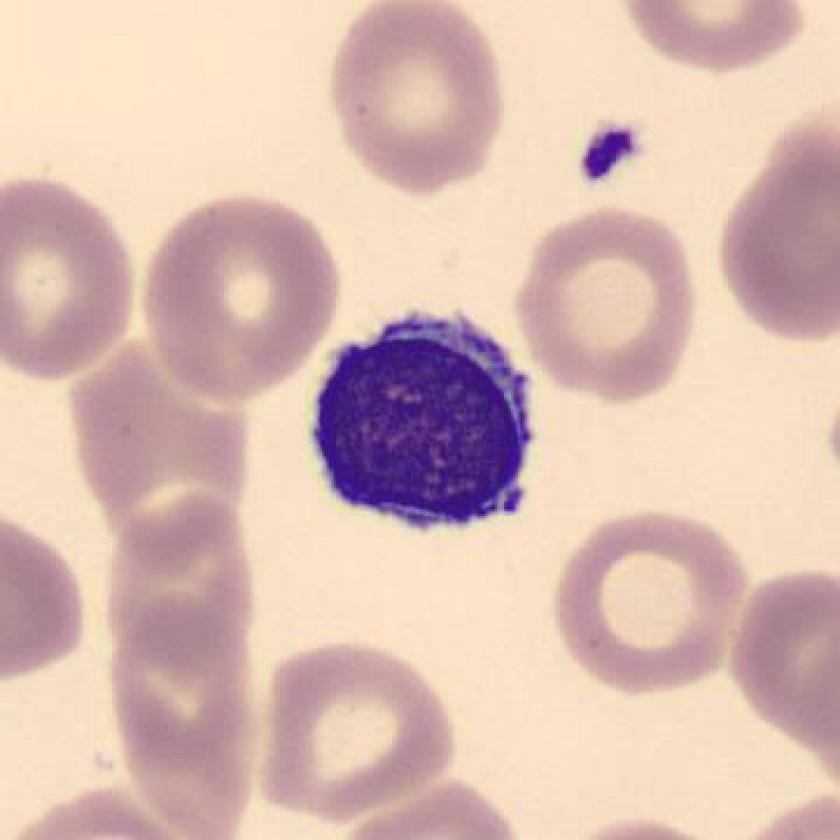lymphocyte: (293, 290, 556, 547)
